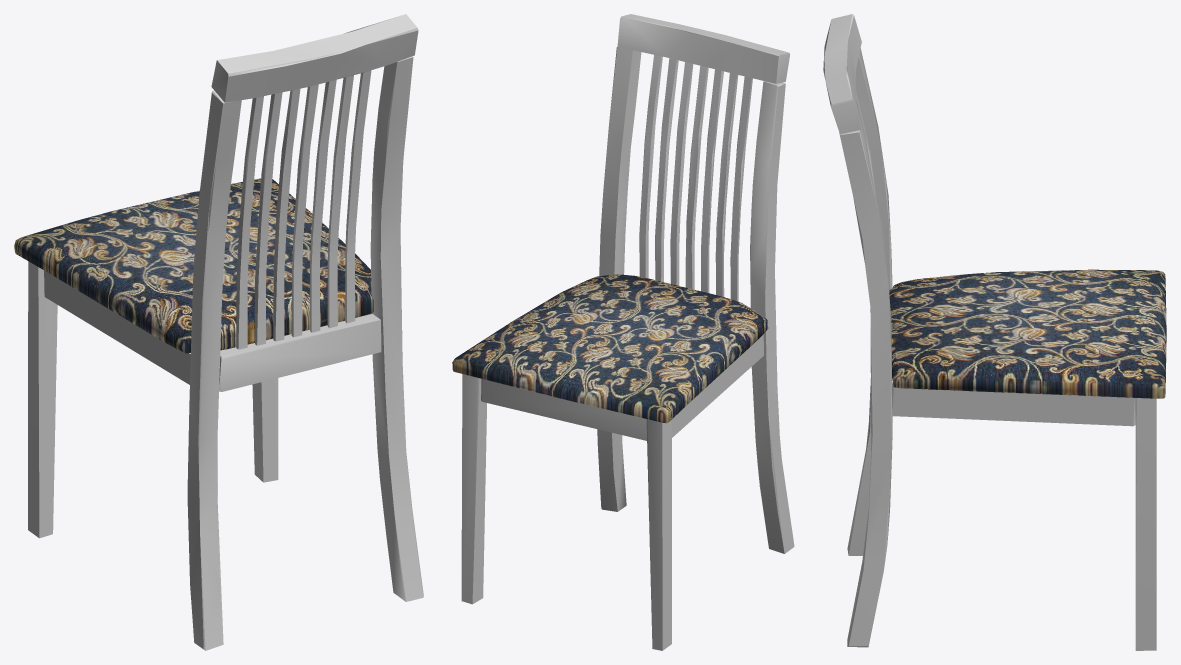
Rendered from Chair.FBX.
3 views of the same model, side by side, from view 1: azimuth 30°, elevation 25°; view 2: azimuth 150°, elevation 25°; view 3: azimuth 270°, elevation 25° (orthographic). The views are drawn at different scales.
Visible parts, largest first — view 1: Chair; view 2: Chair; view 3: Chair.
Boxes of the visible parts, x1,y1,x2,y2 form: Chair: (14,14,423,650); Chair: (452,14,794,650); Chair: (823,14,1166,650).
Bounding box in the file's own units: 62.51 × 136 × 77.97.
2 materials, 1 textured.
